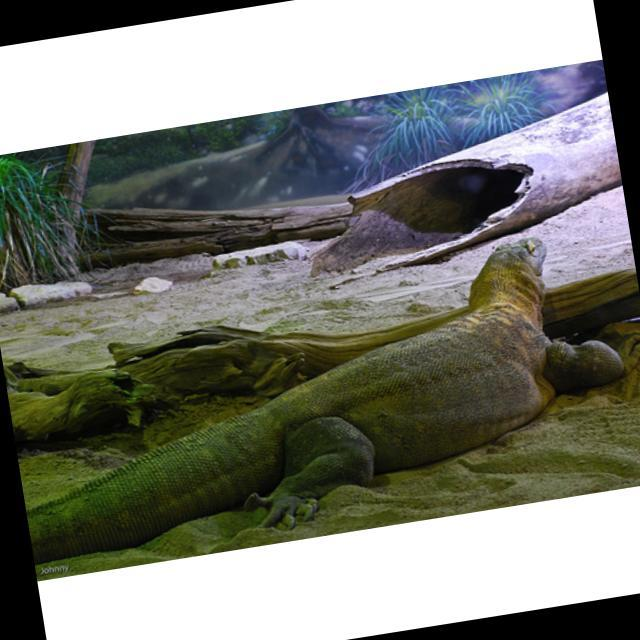KomodoDragon: (0, 222, 640, 573)
